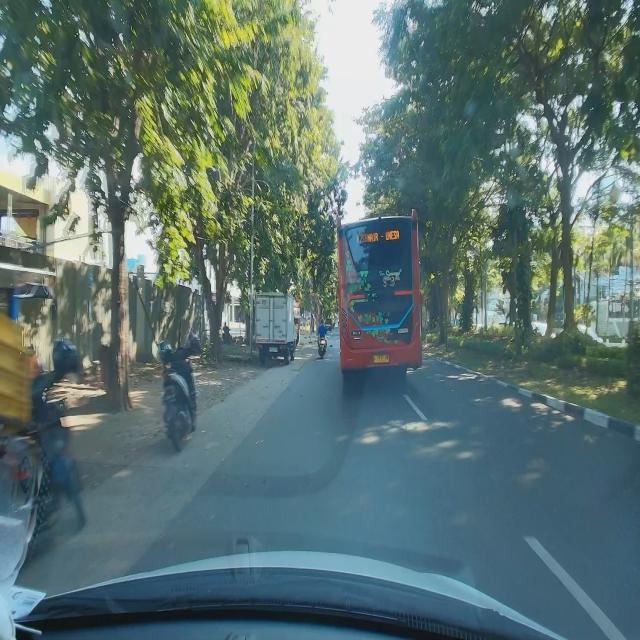bus: (336, 208, 424, 384)
license-plate: (374, 354, 389, 364), (269, 347, 278, 352)
truck: (255, 290, 297, 364)
